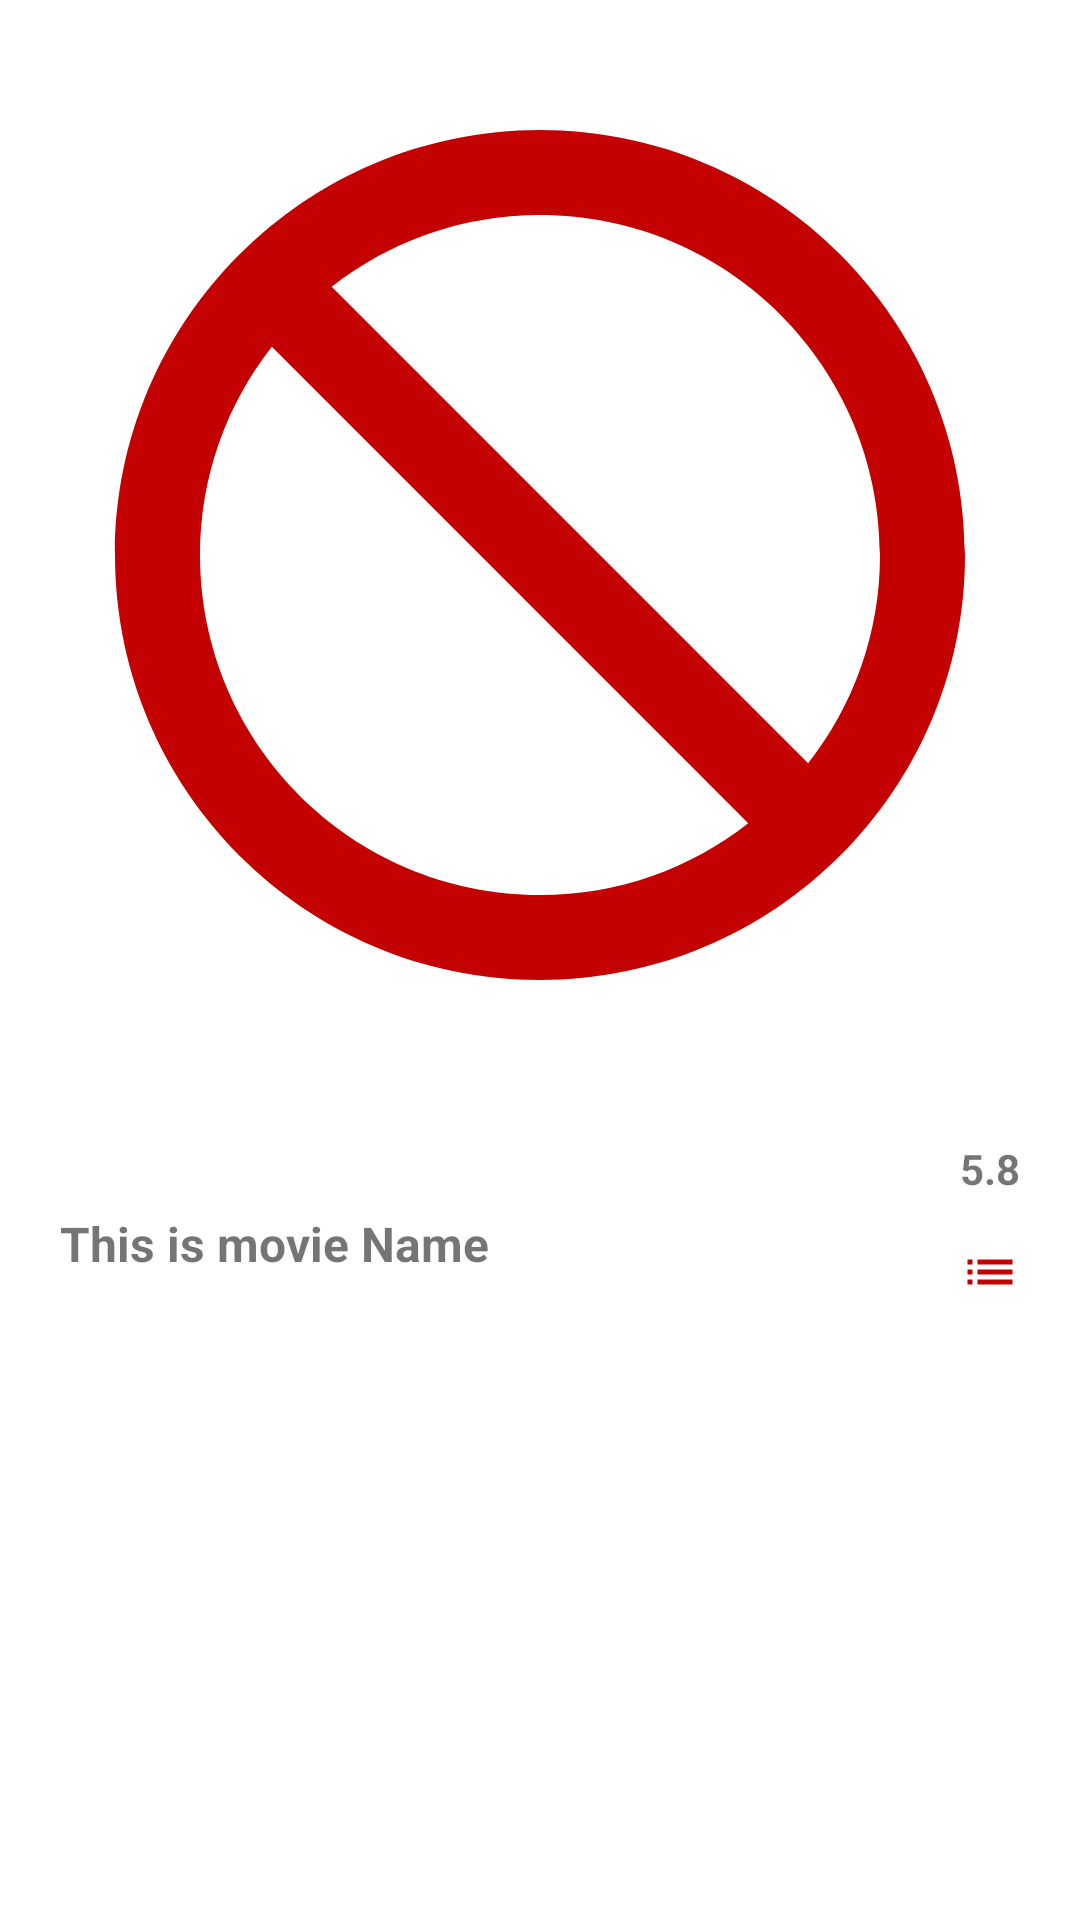

Where to tap for icons on this 1080 × 1920 app screen, as point (x, y):
wish list: point (990, 1272)
